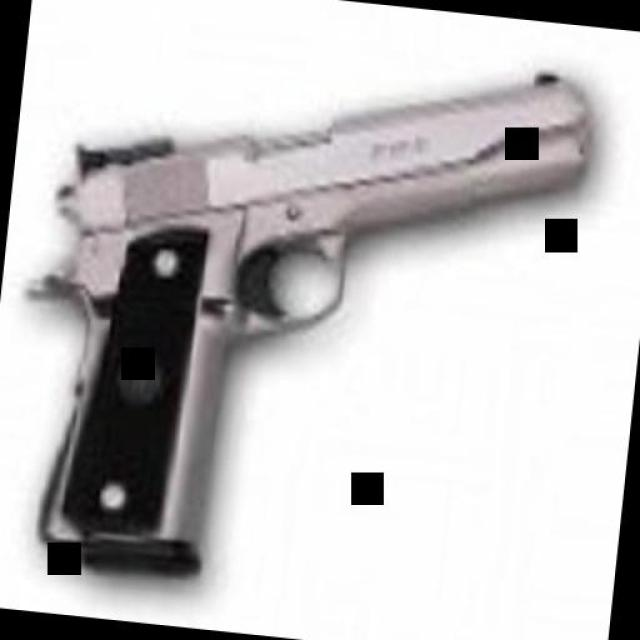gun: (2, 13, 594, 625)
